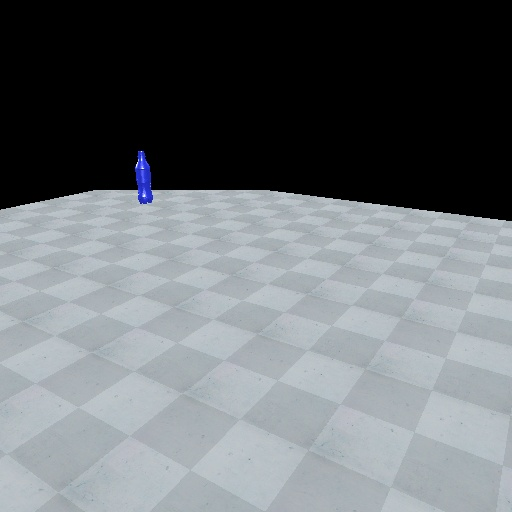bottle: (131, 146, 154, 205)
